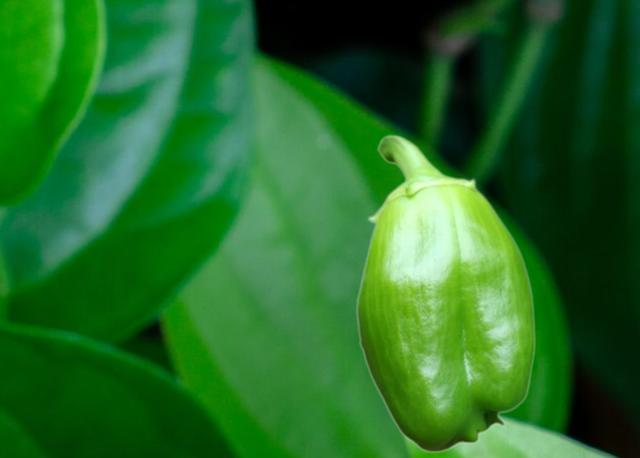bell_pepper: (355, 134, 535, 452)
